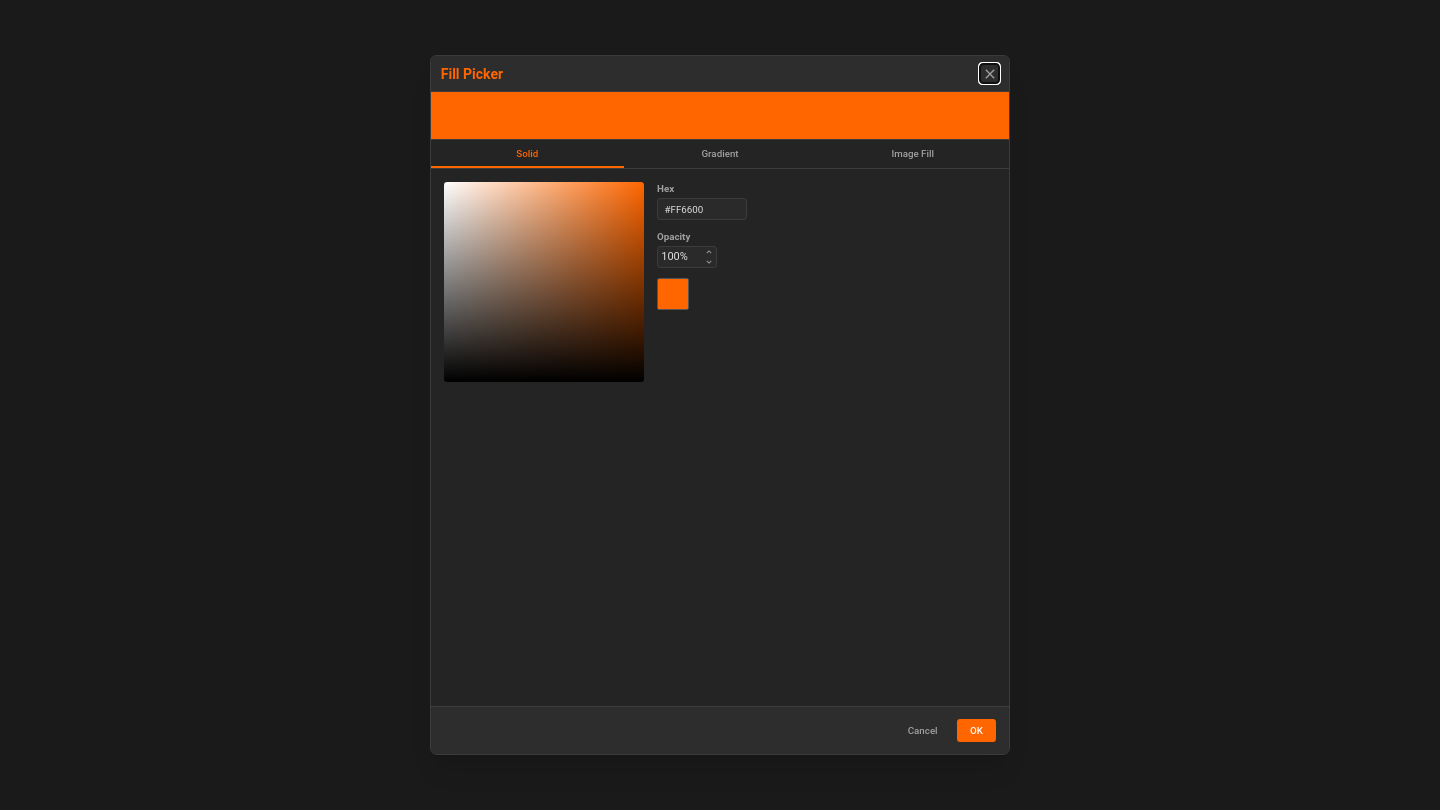
Test: Phase 19B — FillPickerWindow › switches between tabs
The width and height of the screenshot is (1440, 810).
Expected: the panel with test id "fill-solid-tab" is shown, [444,182,747,382]
// Switch to gradient
Click the tab with test id "fill-tab-gradient": x=720, y=154 [624,140,816,168]
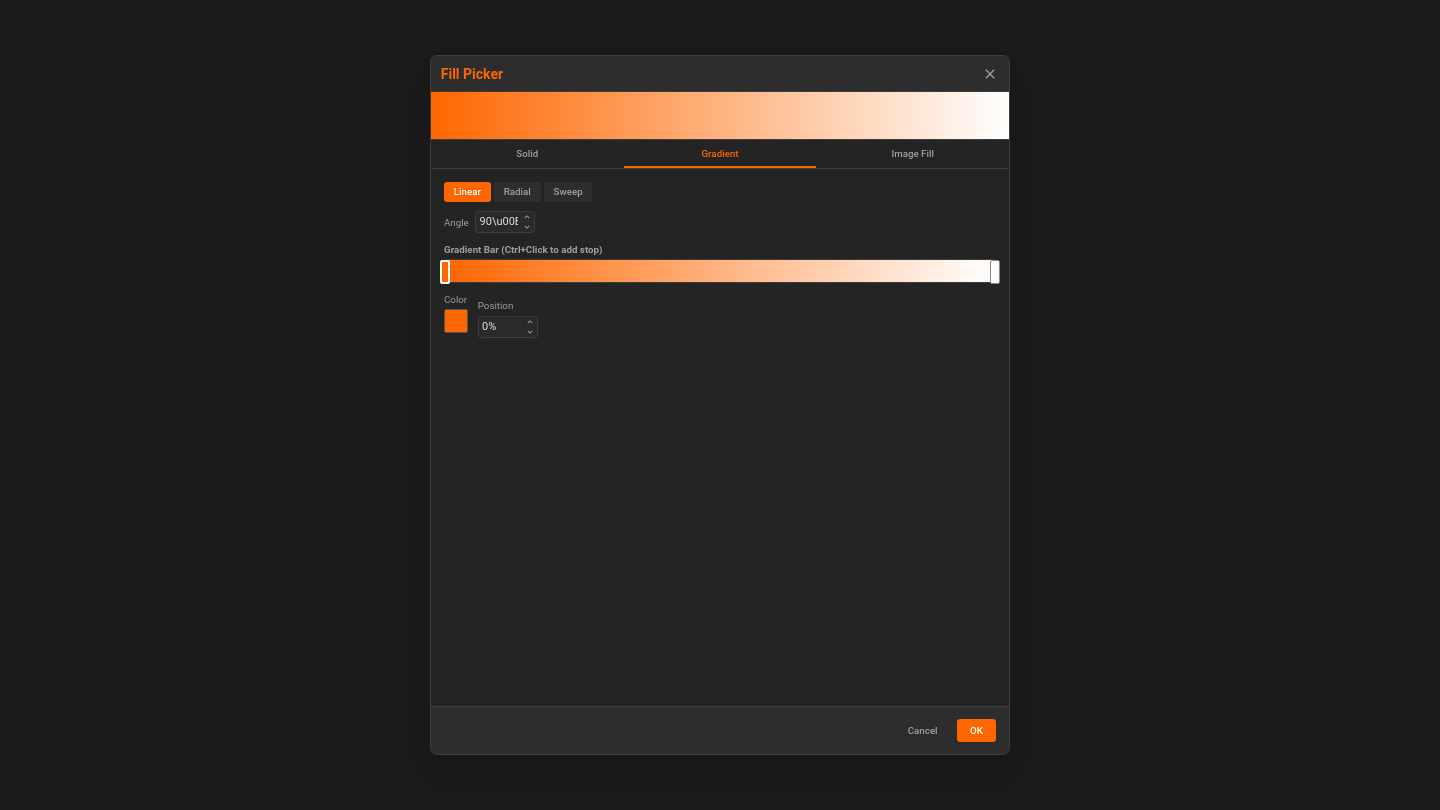
Now the panel with test id "fill-gradient-tab" is shown, box [444,182,996,338]
Now the element with test id "gradient-bar" is shown, box [444,259,996,283]
// Switch to image fill
Click the tab with test id "fill-tab-image-fill": x=913, y=154 [816,140,1009,168]
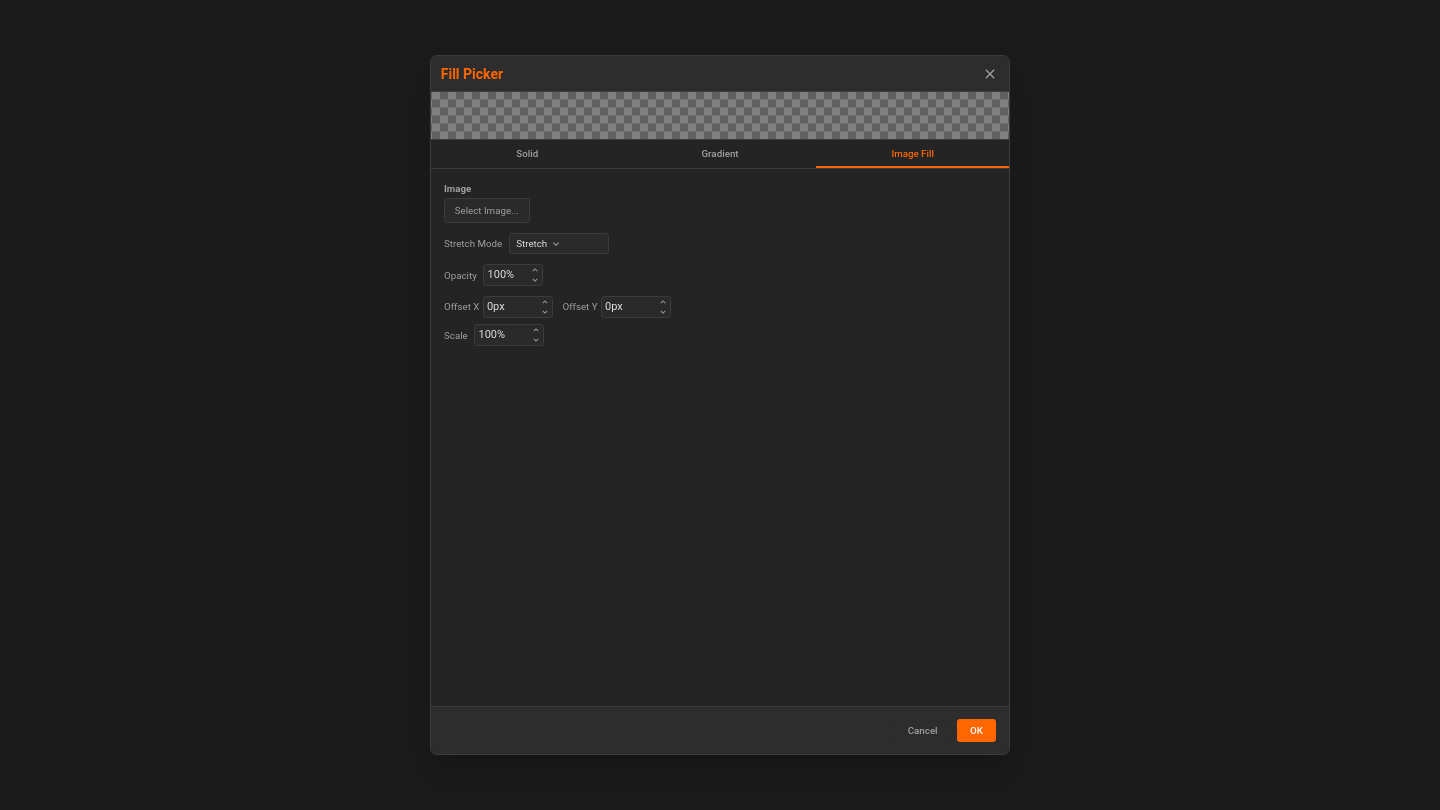
Now the panel with test id "fill-image-tab" is shown, box [444,183,671,346]
Now the button with test id "fill-image-selector" is shown, box [444,198,530,223]
